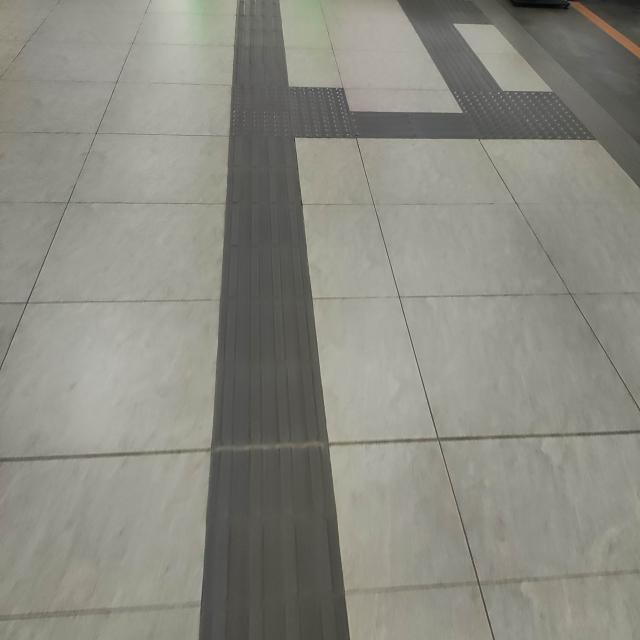lurus: (194, 4, 346, 640)
